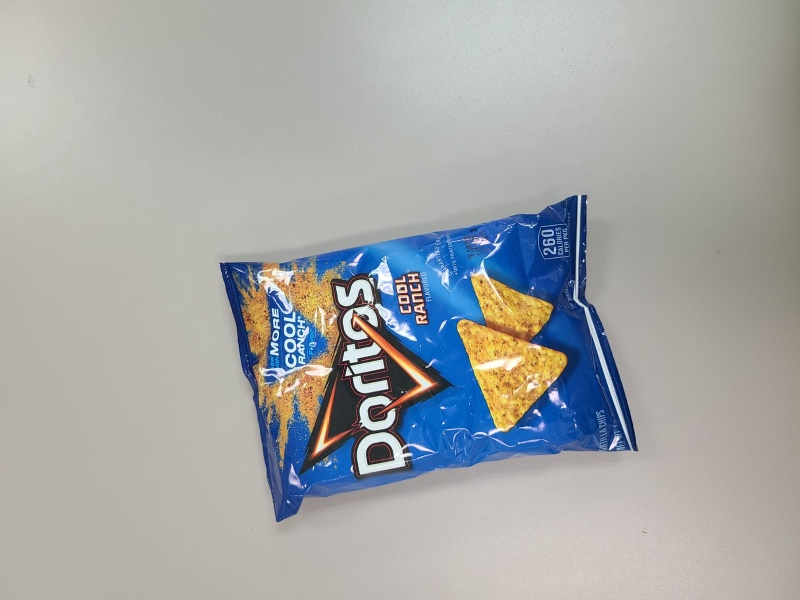doritos: (219, 194, 640, 524)
